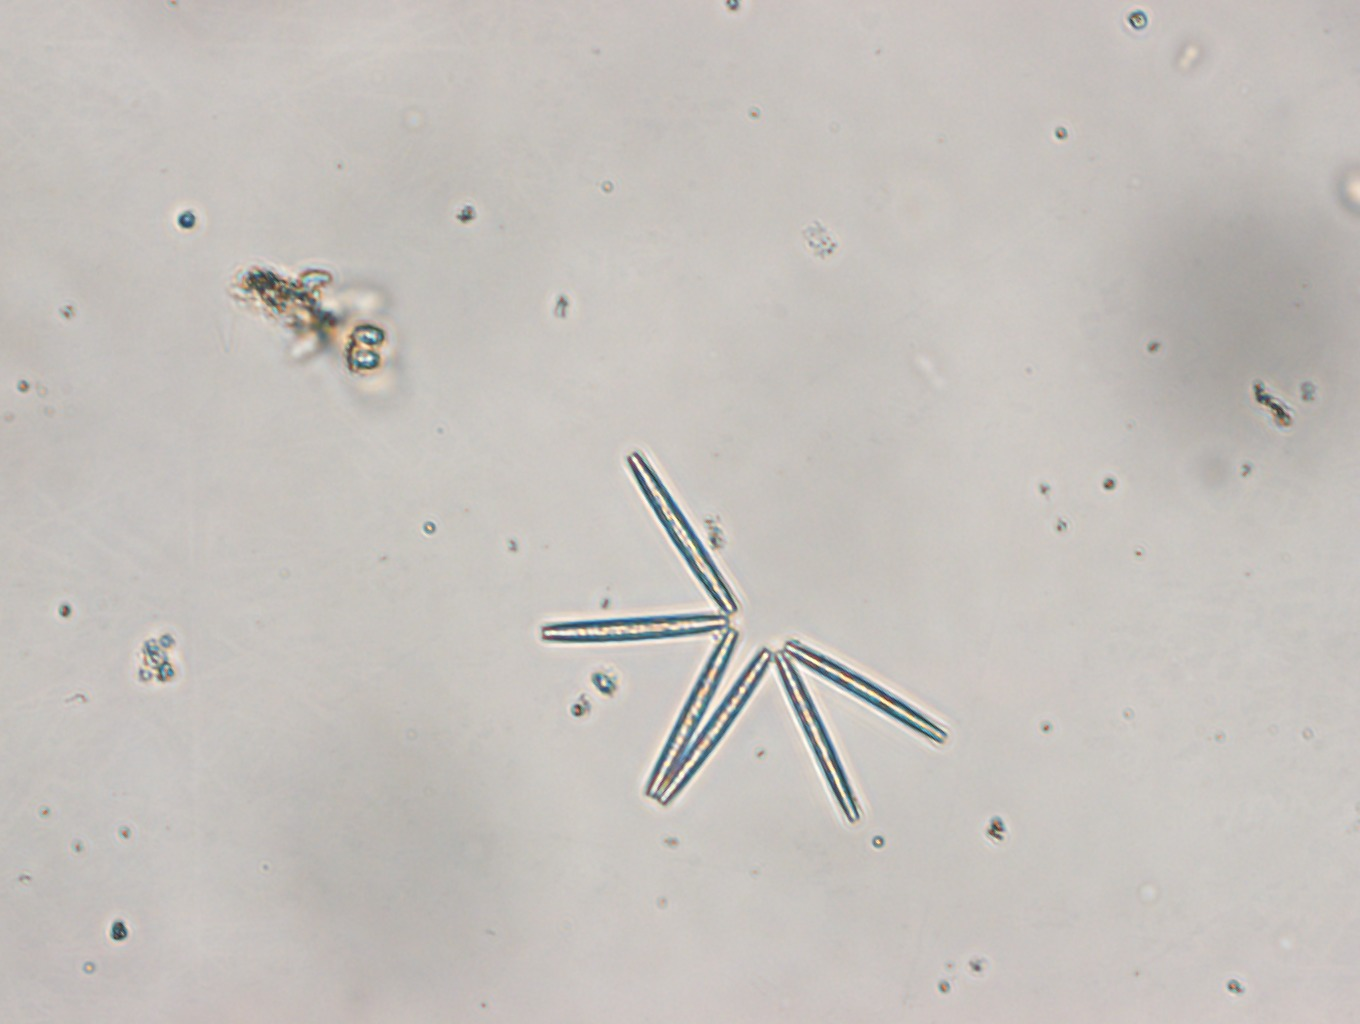thalassionema nitzschioides: (534, 445, 948, 828)
